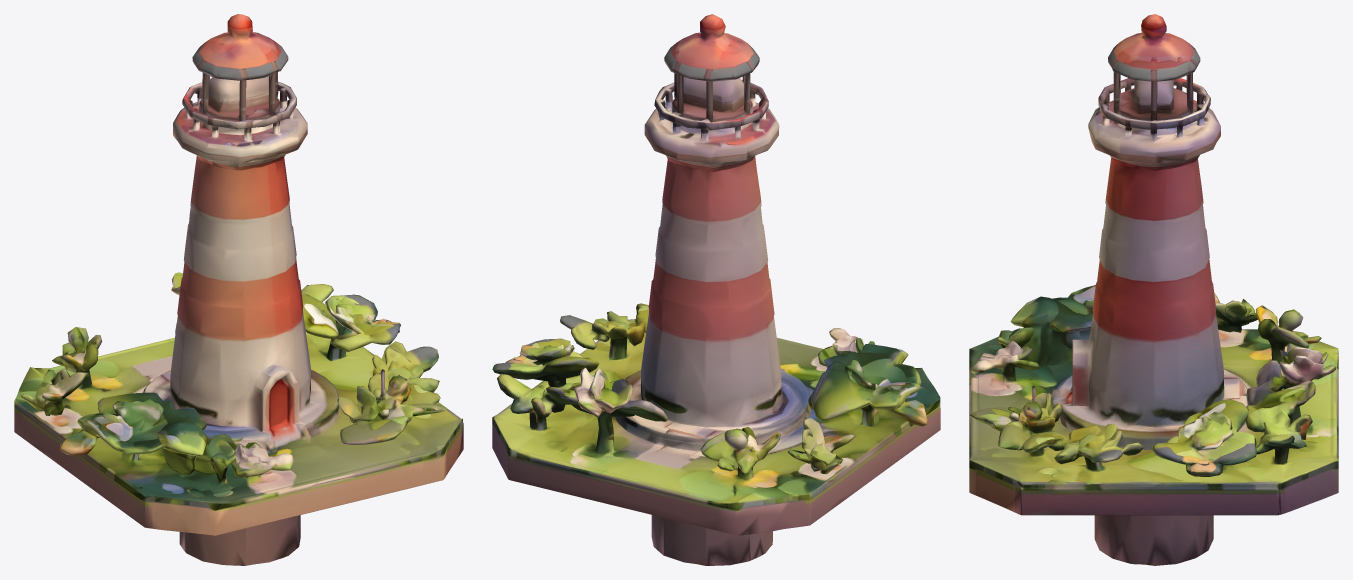
File: sea.glb
The picture shows the model from 3 angles, left to right: view 1: azimuth 30°, elevation 25°; view 2: azimuth 150°, elevation 25°; view 3: azimuth 270°, elevation 25°; orthographic projection.
Visible parts, largest first — view 1: tripo_node_5226f222-ebb3-4b97-a7be-54c1fb4ade5b; view 2: tripo_node_5226f222-ebb3-4b97-a7be-54c1fb4ade5b; view 3: tripo_node_5226f222-ebb3-4b97-a7be-54c1fb4ade5b.
Part boxes in pixels (x1,y1,x2,y2): tripo_node_5226f222-ebb3-4b97-a7be-54c1fb4ade5b: [14, 14, 463, 565]; tripo_node_5226f222-ebb3-4b97-a7be-54c1fb4ade5b: [492, 14, 940, 565]; tripo_node_5226f222-ebb3-4b97-a7be-54c1fb4ade5b: [969, 14, 1338, 565].
Bounding box in the file's own units: 0.7437 × 0.9898 × 0.6312.
Materials: 1 (1 with a texture image).
